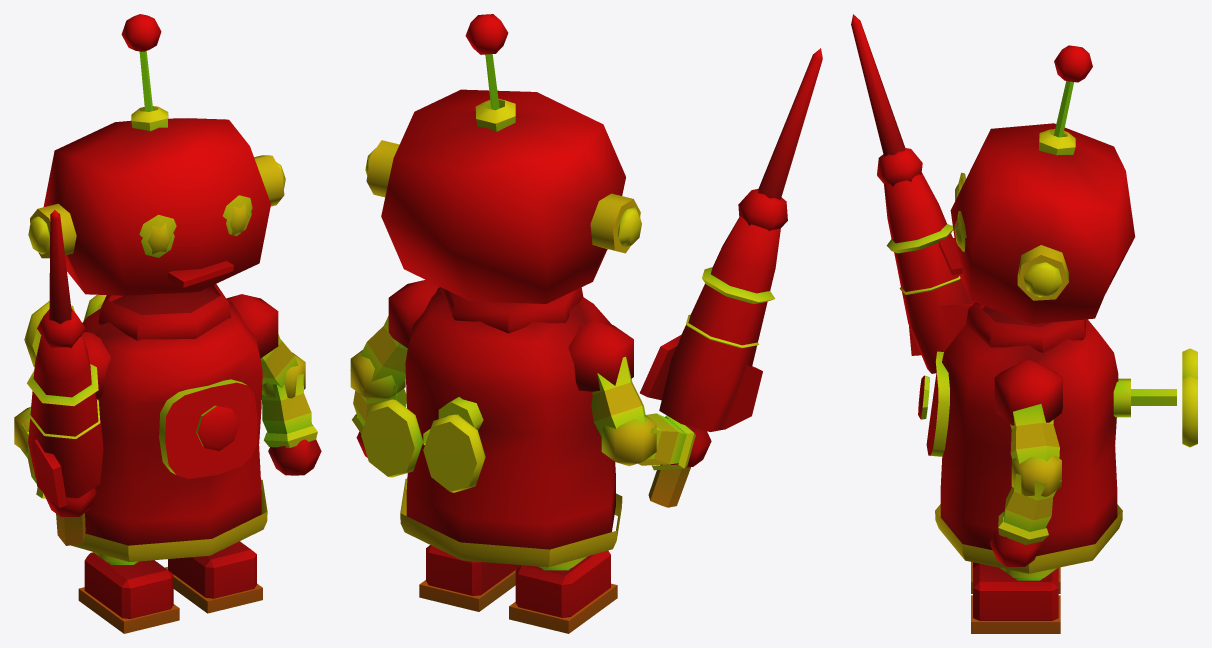
Rendered from RobotWorker_gold_LOD1.glb.
3 views of the same model, side by side, from view 1: azimuth 30°, elevation 25°; view 2: azimuth 150°, elevation 25°; view 3: azimuth 270°, elevation 25° (orthographic). The views are drawn at different scales.
Parts seen in each view (by area): view 1: RobotWorker_gold_LOD1; view 2: RobotWorker_gold_LOD1; view 3: RobotWorker_gold_LOD1.
Part boxes in pixels (box(x1,y1,x2,y2)): RobotWorker_gold_LOD1: box(14, 14, 321, 633); RobotWorker_gold_LOD1: box(350, 14, 822, 633); RobotWorker_gold_LOD1: box(851, 14, 1197, 633).
Bounding box in the file's own units: 0.6047 × 0.93 × 0.5275.
